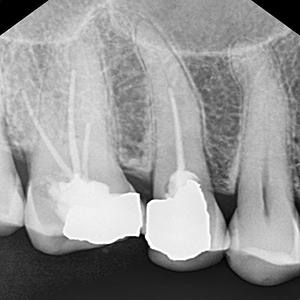tooth: (23, 23, 141, 255), (134, 17, 232, 273), (225, 56, 298, 292)
